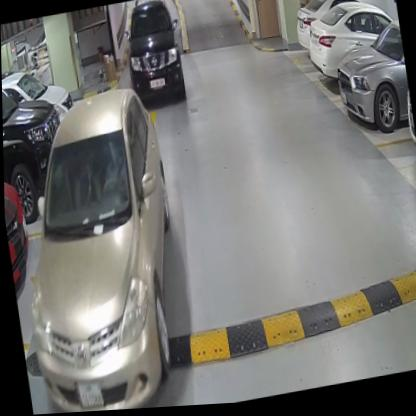np: (71, 376, 103, 413), (149, 79, 166, 90)
